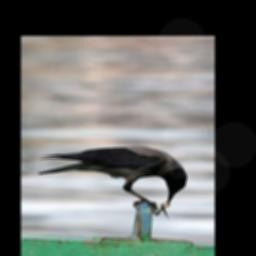Crow: (36, 144, 187, 209)
